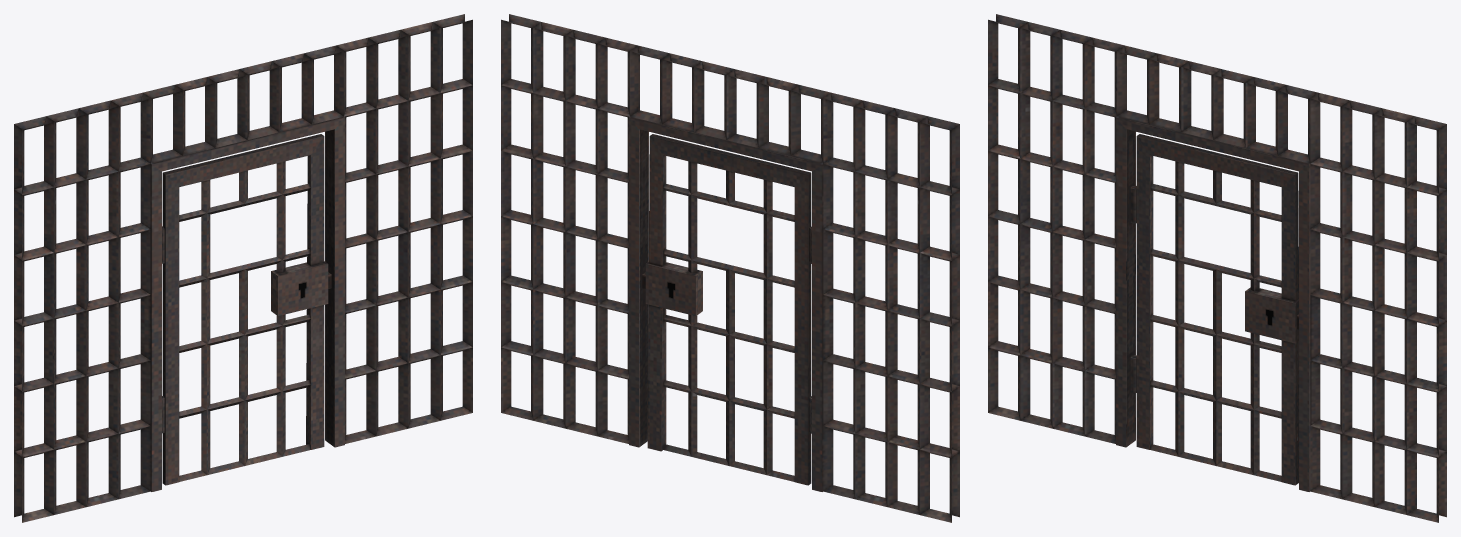
File: grill_door_3m.fbx
The picture shows the model from 3 angles, left to right: view 1: azimuth 30°, elevation 25°; view 2: azimuth 150°, elevation 25°; view 3: azimuth 330°, elevation 25°; orthographic projection.
Visible parts, largest first — view 1: grill_doorway_3m, grill_door; view 2: grill_doorway_3m, grill_door; view 3: grill_doorway_3m, grill_door.
Part boxes in pixels (bbox=[...]): grill_doorway_3m: bbox=[14, 14, 472, 522]; grill_door: bbox=[162, 134, 331, 485]; grill_doorway_3m: bbox=[501, 14, 959, 522]; grill_door: bbox=[642, 134, 811, 485]; grill_doorway_3m: bbox=[988, 14, 1446, 522]; grill_door: bbox=[1130, 134, 1298, 485].
Size of the model in its own units: 300 by 250 by 11.22.
Materials: 2 (2 with a texture image).
